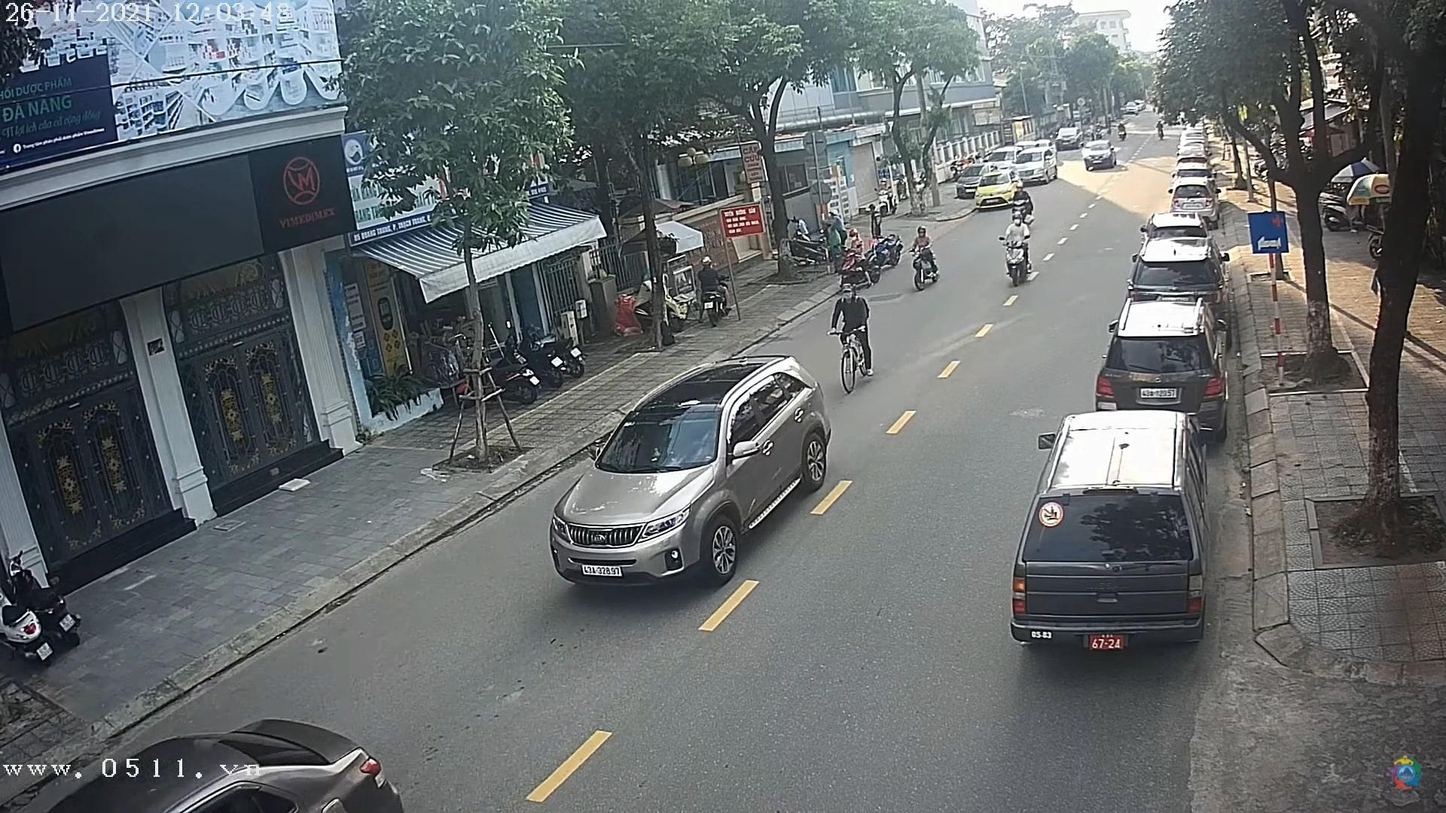car: (549, 356, 834, 590), (1014, 413, 1206, 647), (1097, 295, 1228, 427), (1133, 234, 1219, 289), (1080, 147, 1119, 173), (1057, 126, 1085, 148)
motorbike: (1002, 239, 1034, 289)
